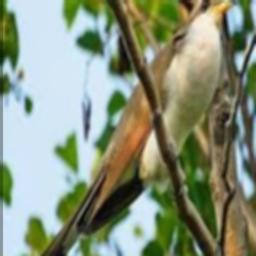Cuckoo: (15, 0, 235, 256)
